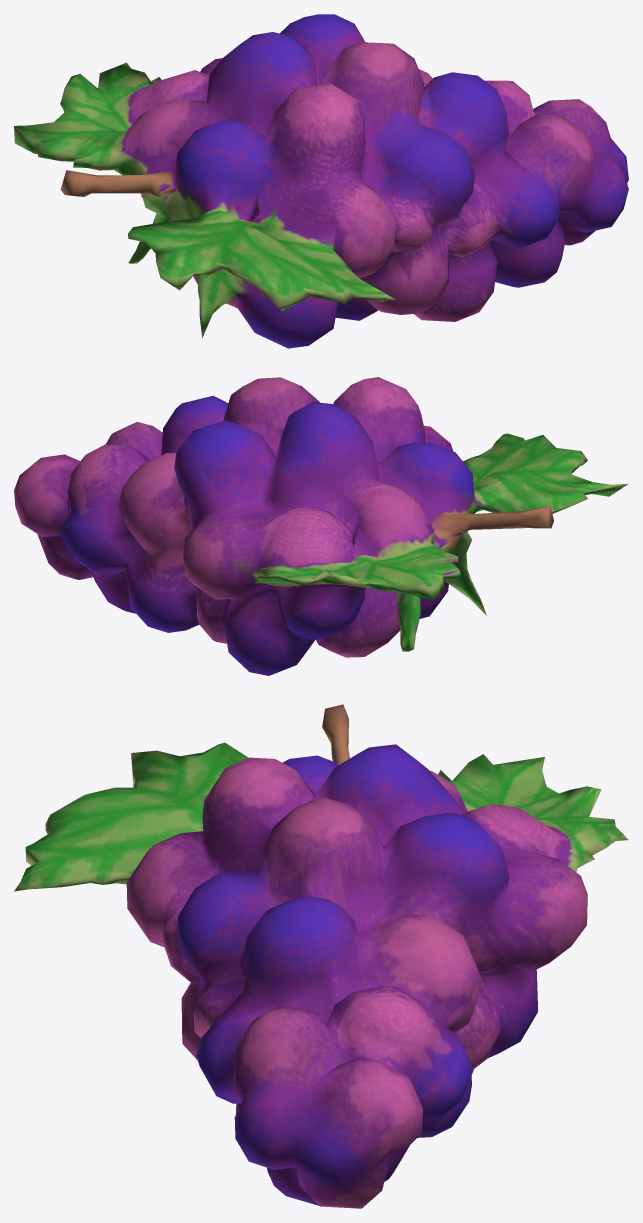
The model's file is grapes.fbx.
The picture shows the model from 3 angles, top to bottom: view 1: azimuth 30°, elevation 25°; view 2: azimuth 150°, elevation 25°; view 3: azimuth 270°, elevation 25°; orthographic projection. The views are drawn at different scales.
Parts seen in each view (by area): view 1: NL_Grapes; view 2: NL_Grapes; view 3: NL_Grapes.
Part boxes in pixels (<box>): NL_Grapes: <box>14,14,628,348</box>; NL_Grapes: <box>14,377,628,675</box>; NL_Grapes: <box>14,704,628,1208</box>.
Bounding box in the file's own units: 15.57 × 7.65 × 12.81.
